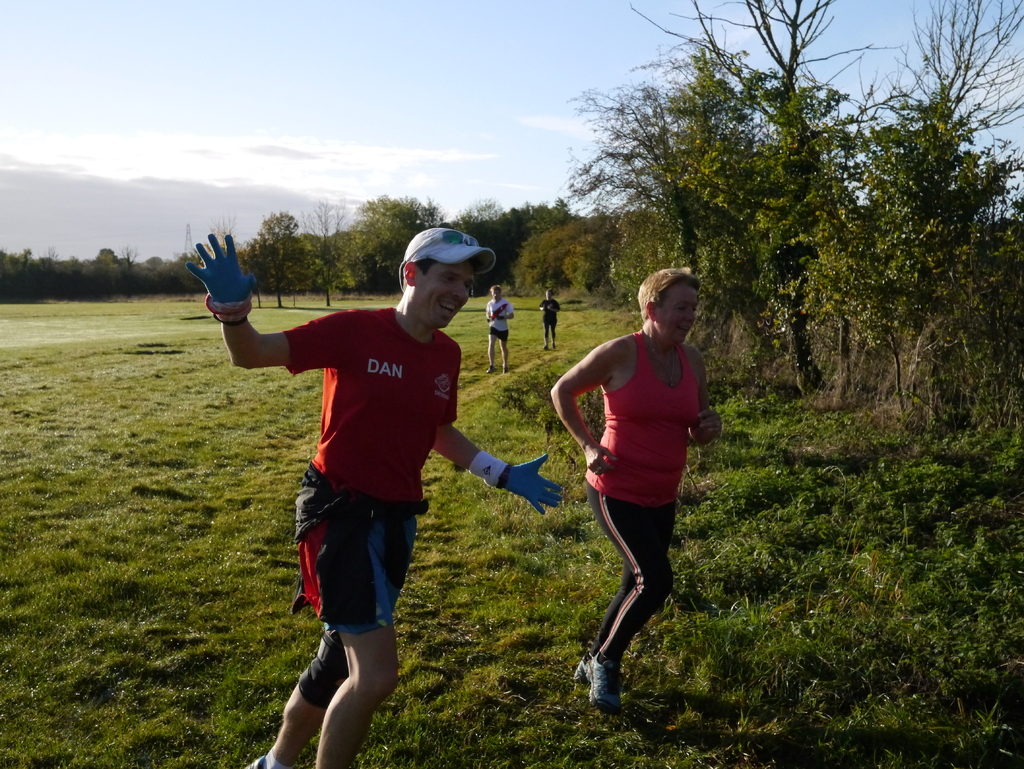Tree: (0, 0, 1020, 466)
